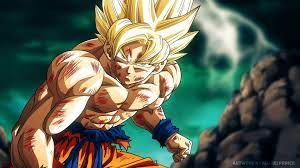Songoku: (97, 1, 183, 85)
